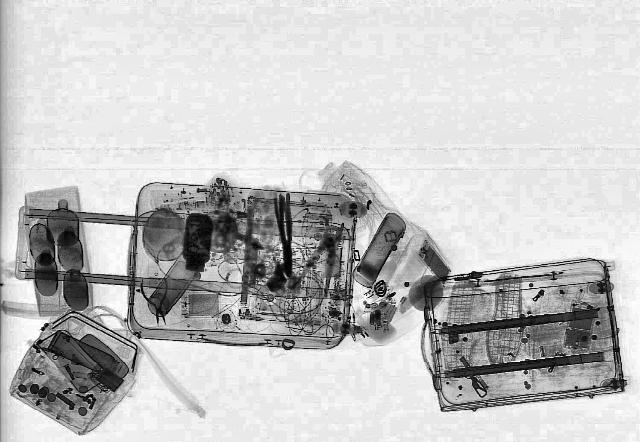Pliers: (271, 194, 297, 278)
